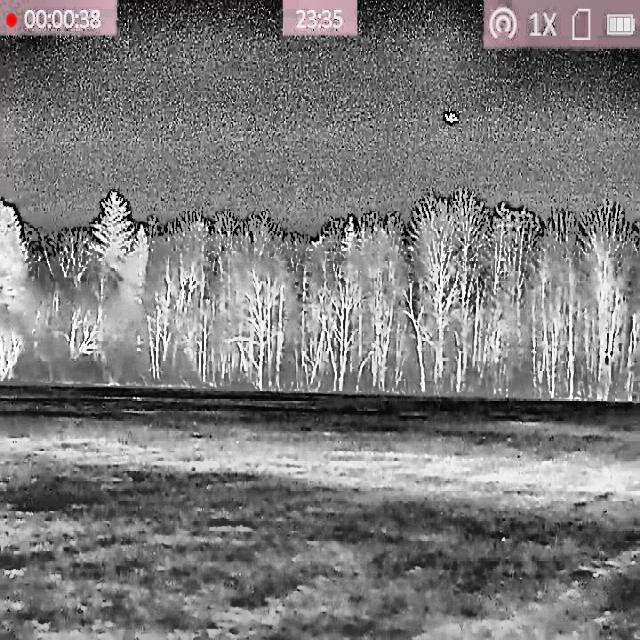drone: (442, 106, 460, 127)
